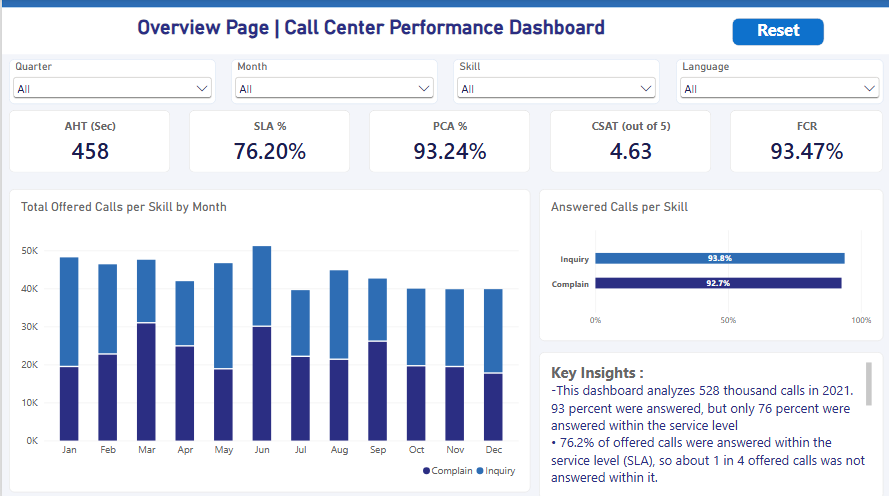

Layout of this report page (visuals, bound fields, positions):
{"tool":"powerbi","page":{"name":"Overview","canvas":[1280,720],"ordinal":0},"visuals":[{"type":"shape","box":[0,0,1280,80],"z":0},{"type":"textbox","box":[158.3,23.3,746.7,35],"z":1000},{"type":"shape","box":[0,0,1280,12],"z":2000},{"type":"slicer","fields":{"Values":["Calendar.Quarter"]},"box":[10,86.3,298,65],"z":4000},{"type":"slicer","fields":{"Values":["Calendar.Month"]},"box":[330,86.3,298,65],"z":5000},{"type":"slicer","fields":{"Values":["Calls.Skill"]},"box":[650,86.3,298,65],"z":6000},{"type":"slicer","fields":{"Values":["Calls.Language"]},"box":[970,86.3,298.8,65],"z":7000},{"type":"cardVisual","fields":{"Data":["_Measures.AHT"]},"box":[10,160,232,90],"z":8000},{"type":"cardVisual","fields":{"Data":["_Measures.SLA %"]},"box":[269.5,160,232,90],"z":9000},{"type":"cardVisual","fields":{"Data":["_Measures.PCA %"]},"box":[529.1,160,232,90],"z":10000},{"type":"cardVisual","fields":{"Data":["_Measures.FCR"]},"box":[1048.8,160,220,90],"z":11000},{"type":"cardVisual","fields":{"Data":["_Measures.CSAT"]},"box":[788.6,160,232,90],"z":12000},{"type":"columnChart","title":"Total Offered Calls per Skill by Month","fields":{"Category":["Calendar.Month"],"Series":["Calls.Skill"],"Y":["_Measures.Offered Calls"]},"box":[10,273.6,750.9,437.3],"z":13000},{"type":"barChart","title":"Answered Calls per Skill ","fields":{"Category":["Calls.Skill"],"Y":["_Measures.PCA %"]},"box":[772.9,274.3,495.7,218.6],"z":14000},{"type":"textbox","box":[773.5,508.8,495.6,211.8],"z":15000},{"type":"actionButton","title":"Reset","box":[1051.2,27.4,133.3,40],"z":16000}]}

Visuals, with their boxes in screenshot pixels (x1, y1, x2, y2), scaled from the page's 1280x720 canvas onto the 889x496 screenshot:
shape: [x1=0, y1=0, x2=888, y2=55]
textbox: [x1=110, y1=16, x2=629, y2=40]
shape: [x1=0, y1=0, x2=888, y2=8]
slicer - Calendar.Quarter: [x1=7, y1=59, x2=214, y2=104]
slicer - Calendar.Month: [x1=229, y1=59, x2=436, y2=104]
slicer - Calls.Skill: [x1=451, y1=59, x2=658, y2=104]
slicer - Calls.Language: [x1=674, y1=59, x2=881, y2=104]
cardVisual - _Measures.AHT: [x1=7, y1=110, x2=168, y2=172]
cardVisual - _Measures.SLA %: [x1=187, y1=110, x2=348, y2=172]
cardVisual - _Measures.PCA %: [x1=367, y1=110, x2=529, y2=172]
cardVisual - _Measures.FCR: [x1=728, y1=110, x2=881, y2=172]
cardVisual - _Measures.CSAT: [x1=548, y1=110, x2=709, y2=172]
"Total Offered Calls per Skill by Month" columnChart: [x1=7, y1=188, x2=528, y2=490]
"Answered Calls per Skill " barChart: [x1=537, y1=189, x2=881, y2=340]
textbox: [x1=537, y1=351, x2=881, y2=495]
"Reset" actionButton: [x1=730, y1=19, x2=823, y2=46]
